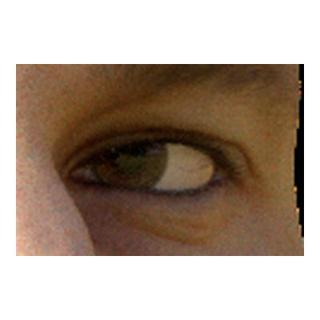pupil: (109, 138, 145, 174)
